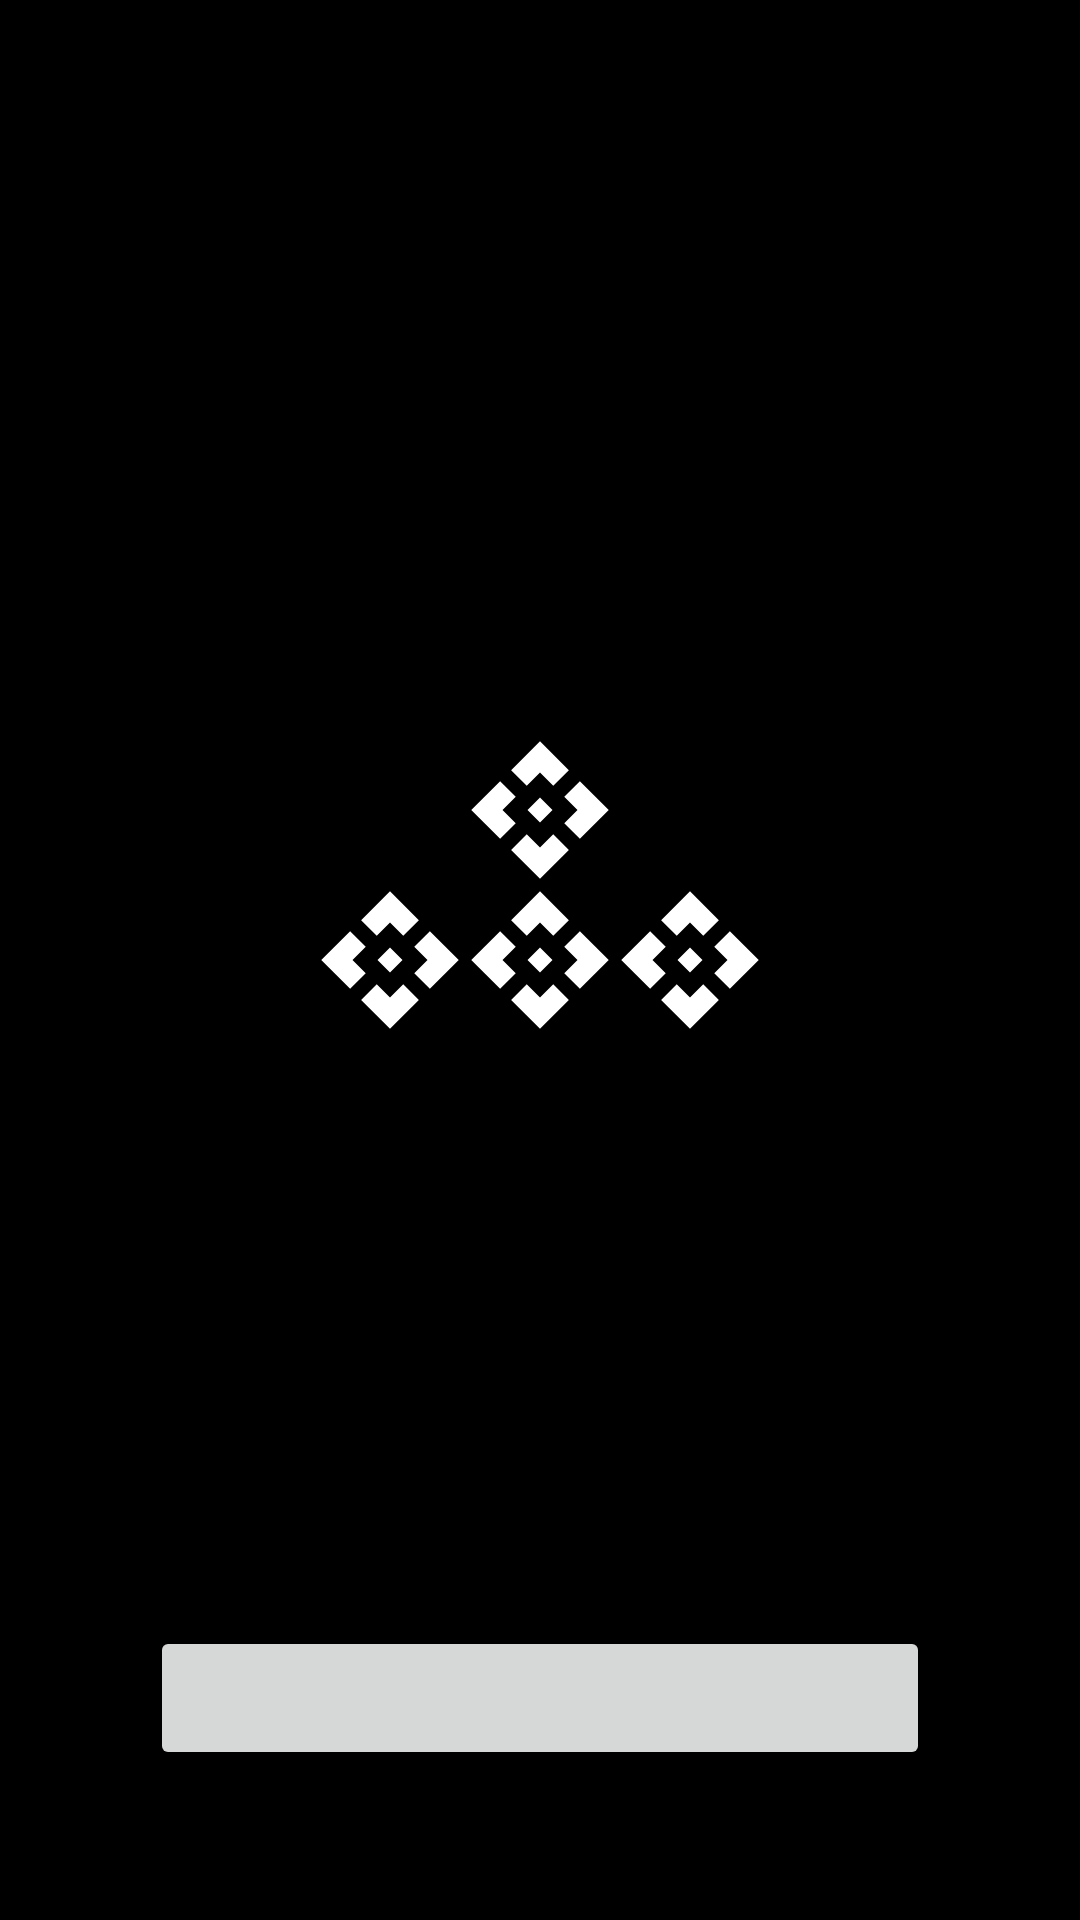

Screen size 1080*1920. Icon name, then its box in pixels as Rect(x1, y1, x2, y2):
api: Rect(471, 741, 609, 879), Rect(321, 891, 459, 1029), Rect(471, 891, 609, 1029), Rect(621, 891, 759, 1029)
